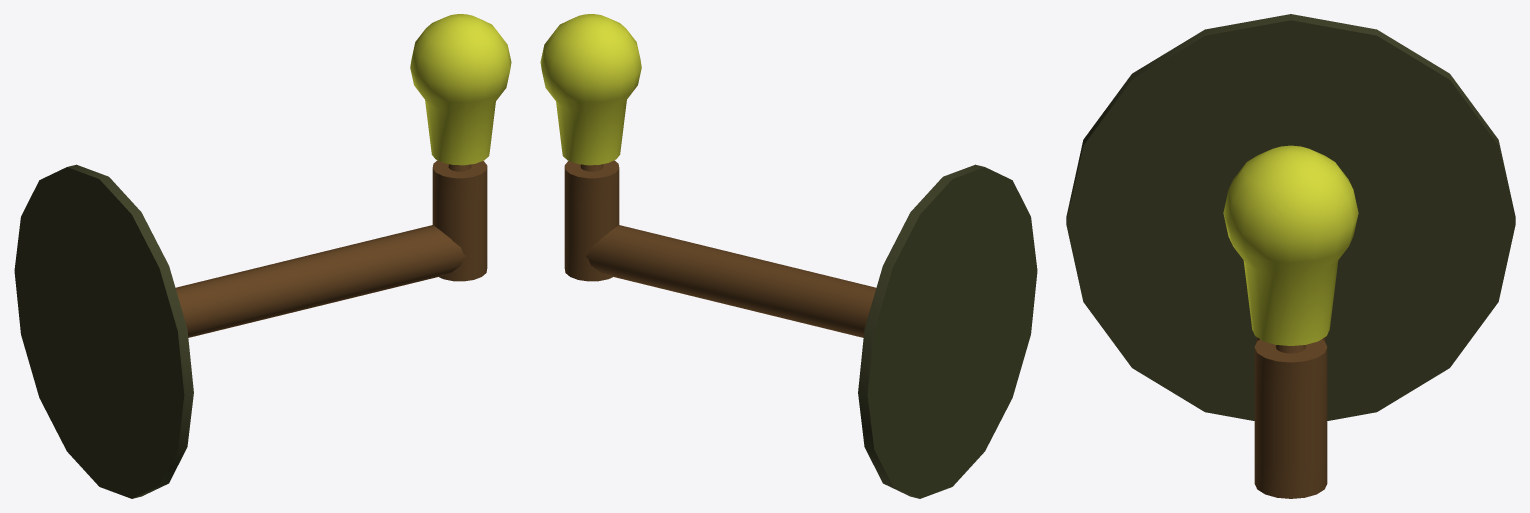
Rendered from Wall Lamp without cover.fbx.
3 renders of one model, left to right at view 1: azimuth 30°, elevation 25°; view 2: azimuth 150°, elevation 25°; view 3: azimuth 270°, elevation 25°, orthographic. The views are drawn at different scales.
Parts seen in each view (by area): view 1: Cylinder_1, Cylinder, Sphere, Cylinder_5; view 2: Cylinder_1, Cylinder, Sphere, Cylinder_5; view 3: Cylinder_1, Sphere, Cylinder_5.
Part boxes in pixels (x1,y1,x2,y2): Cylinder_1: (14,164,193,498); Cylinder: (175,225,465,337); Sphere: (410,14,511,165); Cylinder_5: (432,160,487,281); Cylinder_1: (858,164,1037,498); Cylinder: (586,225,876,337); Sphere: (540,14,641,165); Cylinder_5: (564,160,619,281); Cylinder_1: (1066,14,1515,420); Sphere: (1223,145,1358,345); Cylinder_5: (1254,339,1327,498).
Size of the model in its own units: 143 by 128 by 103.
